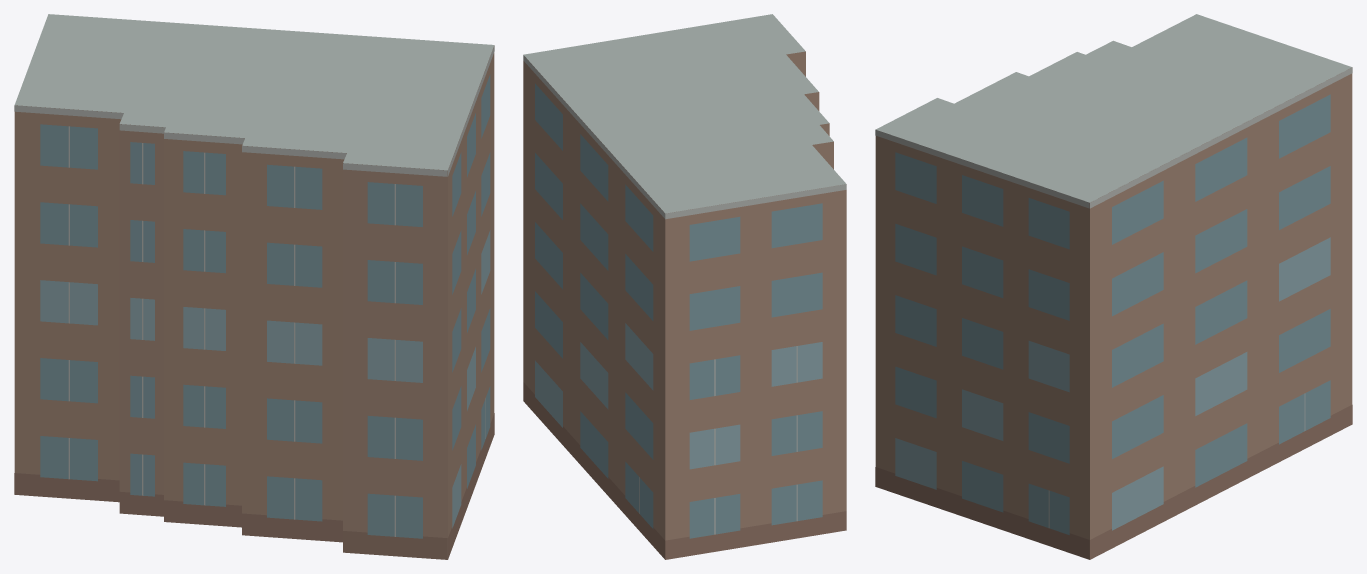
Rendered from survey-upis-32640870.glb.
3 renders of one model, left to right at view 1: azimuth 30°, elevation 25°; view 2: azimuth 150°, elevation 25°; view 3: azimuth 270°, elevation 25°, orthographic. The views are drawn at different scales.
Parts seen in each view (by area): view 1: survey-upis-32640870.tmp; view 2: survey-upis-32640870.tmp; view 3: survey-upis-32640870.tmp.
Part boxes in pixels (x1=…): survey-upis-32640870.tmp: x1=14, y1=14, x2=494, y2=559; survey-upis-32640870.tmp: x1=523, y1=14, x2=846, y2=559; survey-upis-32640870.tmp: x1=875, y1=14, x2=1352, y2=559.
Size of the model in its own units: 16.67 by 14.7 by 17.8.
